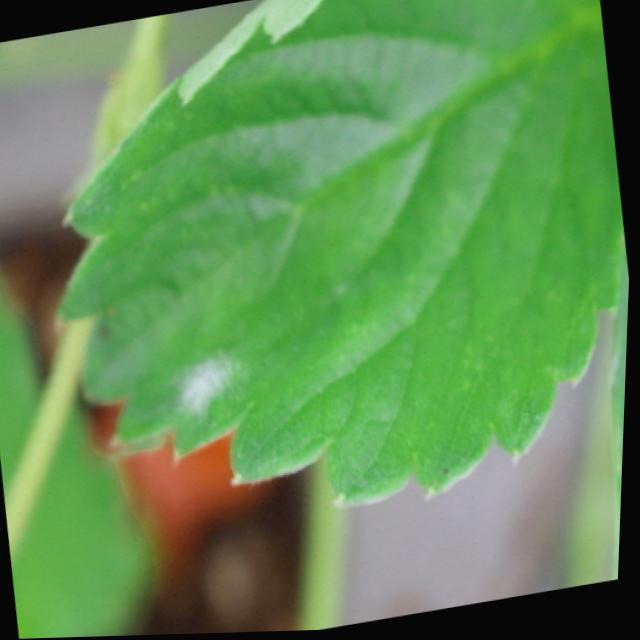Powdery Mildew Leaf: (52, 0, 627, 508)
